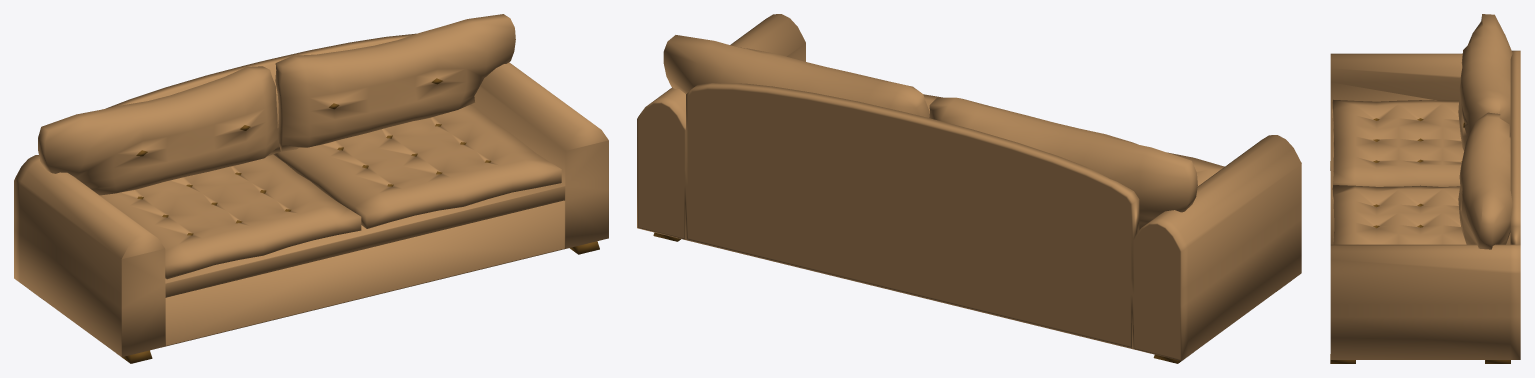
Rendered from room_couch.glb.
3 views of the same model, side by side, from view 1: azimuth 30°, elevation 25°; view 2: azimuth 150°, elevation 25°; view 3: azimuth 270°, elevation 25° (orthographic). The views are drawn at different scales.
Visible parts, largest first — view 1: room_couch; view 2: room_couch; view 3: room_couch.
Boxes of the visible parts, x1,y1,x2,y2 form: room_couch: (14,14,608,363); room_couch: (637,14,1301,363); room_couch: (1330,14,1520,363).
Size of the model in its own units: 1096 by 380 by 420.
